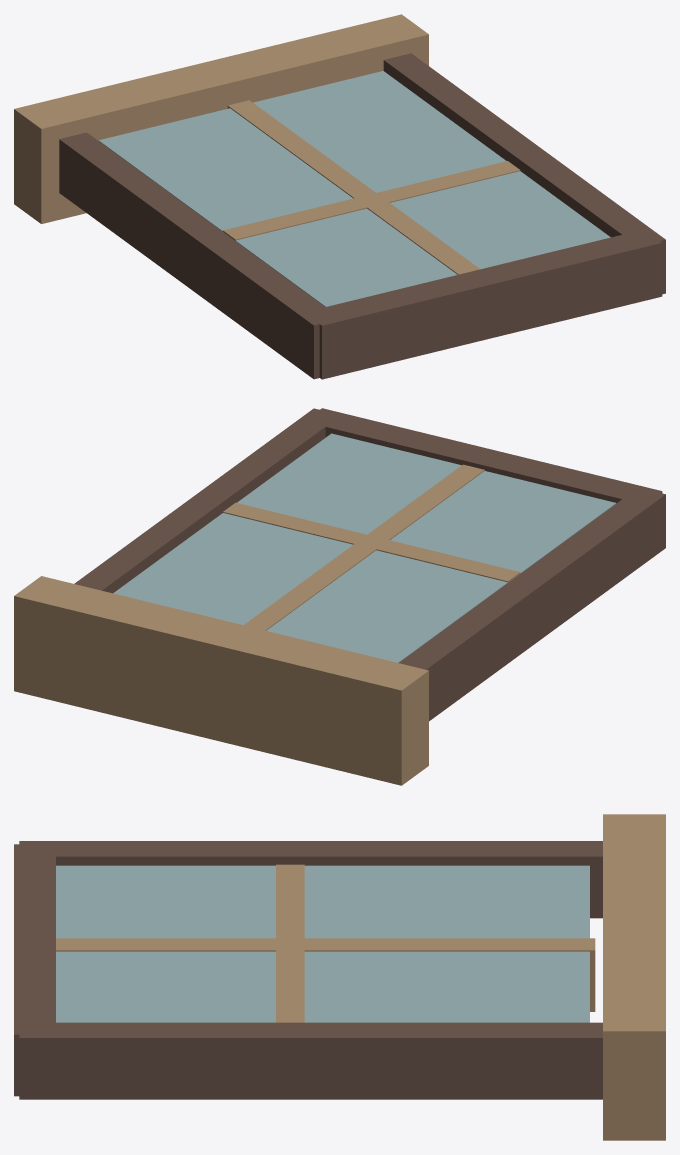
Rendered from medieval_leaded_window.glb.
3 views of the same model, one above another, from view 1: azimuth 30°, elevation 25°; view 2: azimuth 150°, elevation 25°; view 3: azimuth 270°, elevation 25° (orthographic). The views are drawn at different scales.
Parts seen in each view (by area): view 1: medieval_leaded_window_000, medieval_leaded_window_004, medieval_leaded_window_003, medieval_leaded_window_001, medieval_leaded_window_002, medieval_leaded_window_005, medieval_leaded_window_006; view 2: medieval_leaded_window_000, medieval_leaded_window_003, medieval_leaded_window_001, medieval_leaded_window_002, medieval_leaded_window_004, medieval_leaded_window_005, medieval_leaded_window_006; view 3: medieval_leaded_window_000, medieval_leaded_window_002, medieval_leaded_window_003, medieval_leaded_window_001, medieval_leaded_window_004, medieval_leaded_window_005, medieval_leaded_window_006.
Part boxes in pixels (x1,y1,x2,y2): medieval_leaded_window_000: [98, 71, 610, 306]; medieval_leaded_window_004: [308, 235, 662, 379]; medieval_leaded_window_003: [14, 14, 428, 223]; medieval_leaded_window_001: [59, 132, 341, 379]; medieval_leaded_window_002: [383, 53, 665, 294]; medieval_leaded_window_005: [227, 100, 479, 274]; medieval_leaded_window_006: [223, 161, 520, 240]; medieval_leaded_window_000: [113, 433, 616, 662]; medieval_leaded_window_003: [14, 576, 428, 785]; medieval_leaded_window_001: [399, 487, 665, 721]; medieval_leaded_window_002: [74, 408, 341, 593]; medieval_leaded_window_004: [304, 408, 662, 503]; medieval_leaded_window_005: [244, 464, 484, 630]; medieval_leaded_window_006: [223, 502, 520, 582]; medieval_leaded_window_000: [56, 865, 589, 1022]; medieval_leaded_window_002: [19, 1022, 602, 1099]; medieval_leaded_window_003: [603, 814, 665, 1140]; medieval_leaded_window_001: [19, 841, 602, 918]; medieval_leaded_window_004: [14, 844, 55, 1096]; medieval_leaded_window_005: [56, 938, 595, 1011]; medieval_leaded_window_006: [276, 864, 304, 1022].
Bounding box in the file's own units: 0.98 × 0.23 × 1.24.
